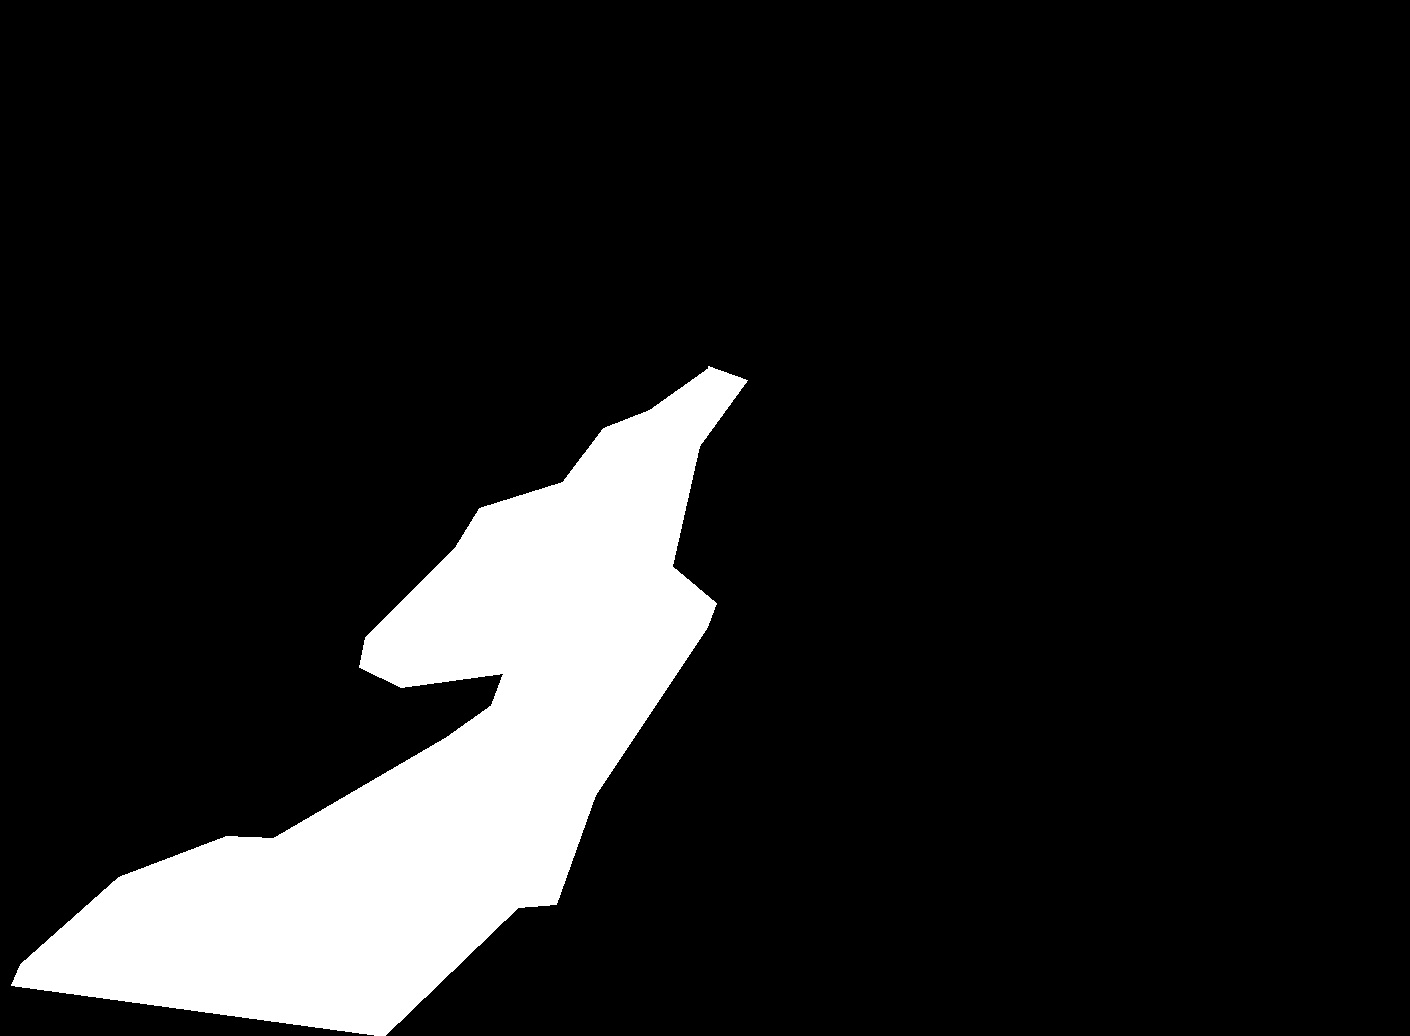Fire: (435, 349, 761, 824)
